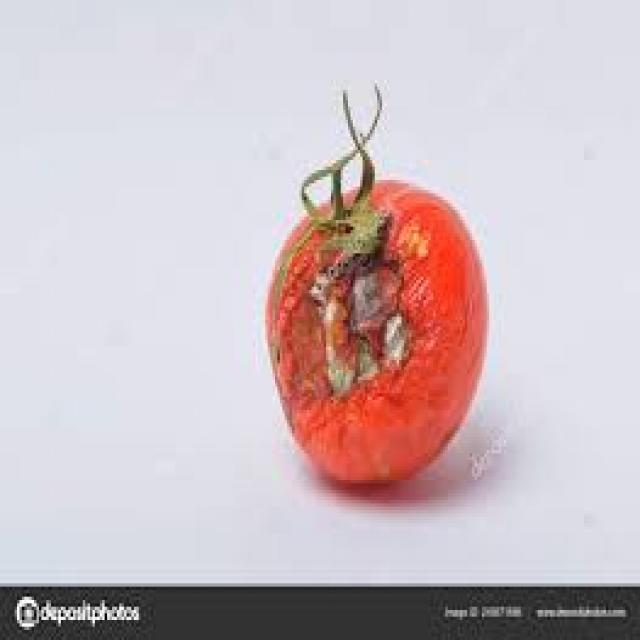organic waste: (263, 80, 484, 483)
